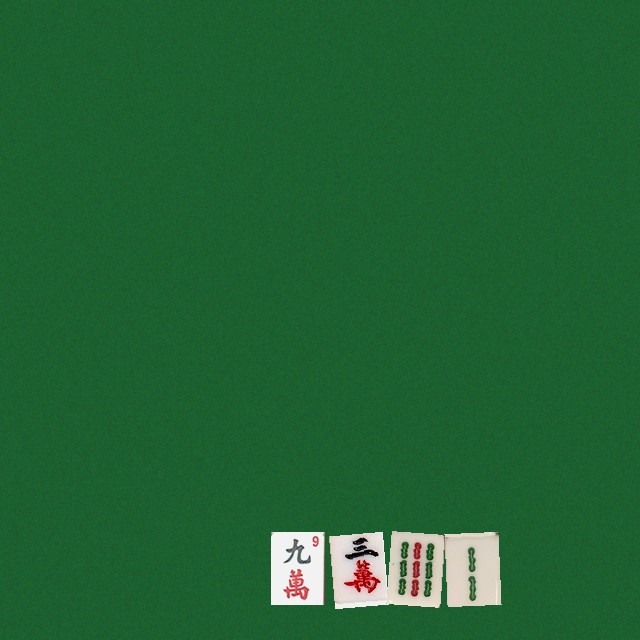tile: (270, 531, 324, 604), (328, 531, 382, 604), (386, 531, 440, 604), (444, 531, 498, 604)
